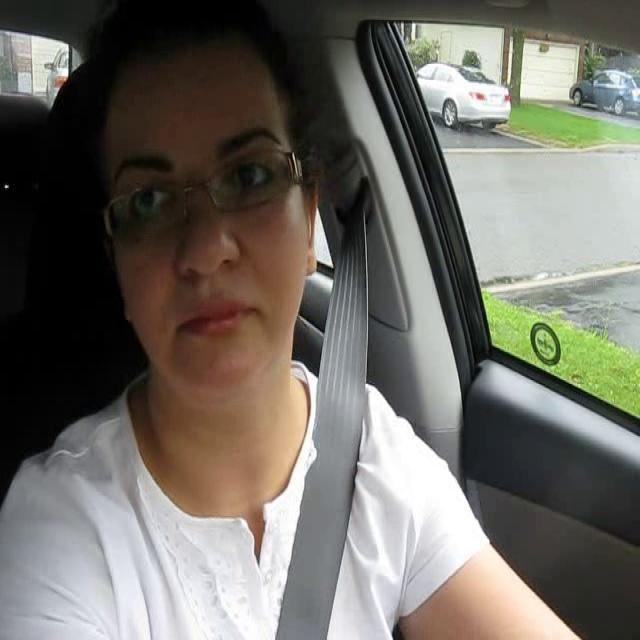close: (170, 291, 261, 339)
